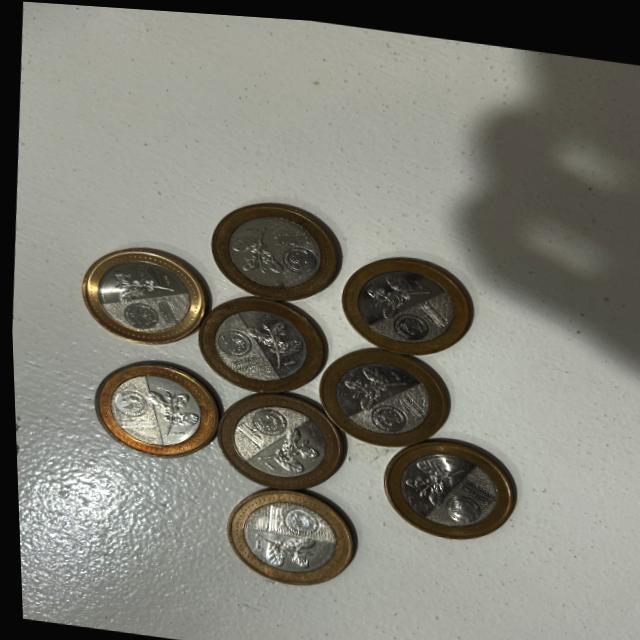20_New_Back: (241, 302, 324, 377), (138, 374, 202, 440)
